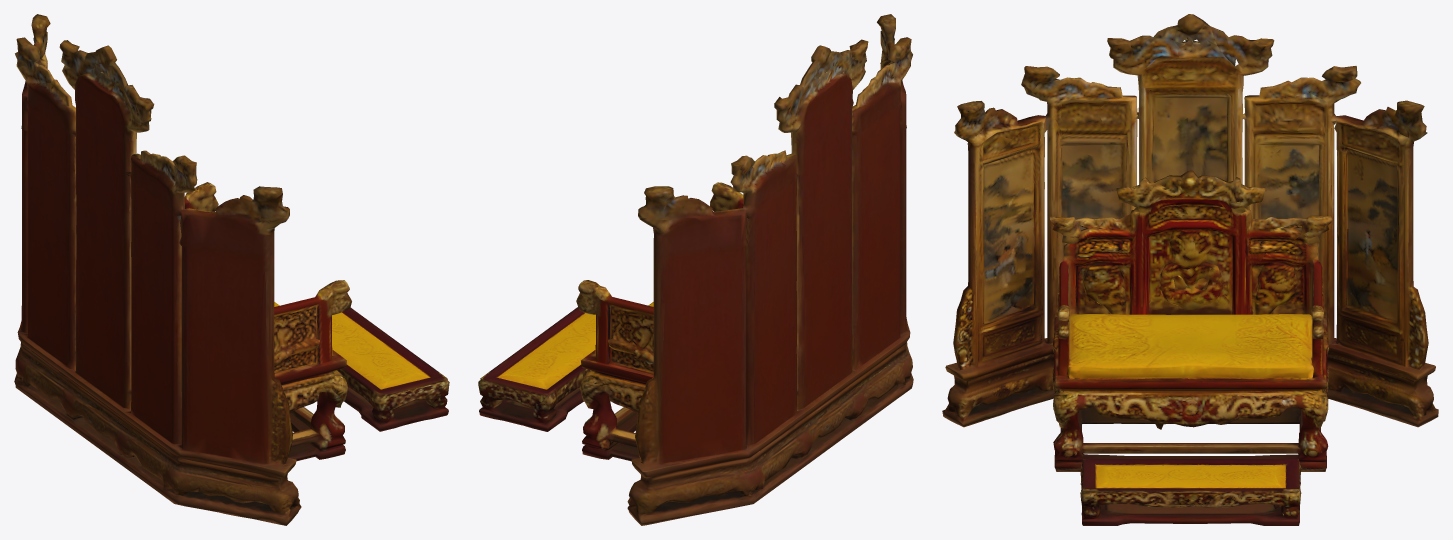
File: f_baozuo.glb
The picture shows the model from 3 angles, left to right: view 1: azimuth 30°, elevation 25°; view 2: azimuth 150°, elevation 25°; view 3: azimuth 270°, elevation 25°; orthographic projection. The views are drawn at different scales.
Visible parts, largest first — view 1: tripo_node_3e942c78-1bfe-4b56-80ab-eff3bba9776f; view 2: tripo_node_3e942c78-1bfe-4b56-80ab-eff3bba9776f; view 3: tripo_node_3e942c78-1bfe-4b56-80ab-eff3bba9776f.
Boxes of the visible parts, x1,y1,x2,y2 form: tripo_node_3e942c78-1bfe-4b56-80ab-eff3bba9776f: (14, 14, 449, 525); tripo_node_3e942c78-1bfe-4b56-80ab-eff3bba9776f: (478, 14, 913, 525); tripo_node_3e942c78-1bfe-4b56-80ab-eff3bba9776f: (942, 14, 1438, 525).
Size of the model in its own units: 0.6673 by 0.8415 by 0.9995.
1 material, 1 textured.
